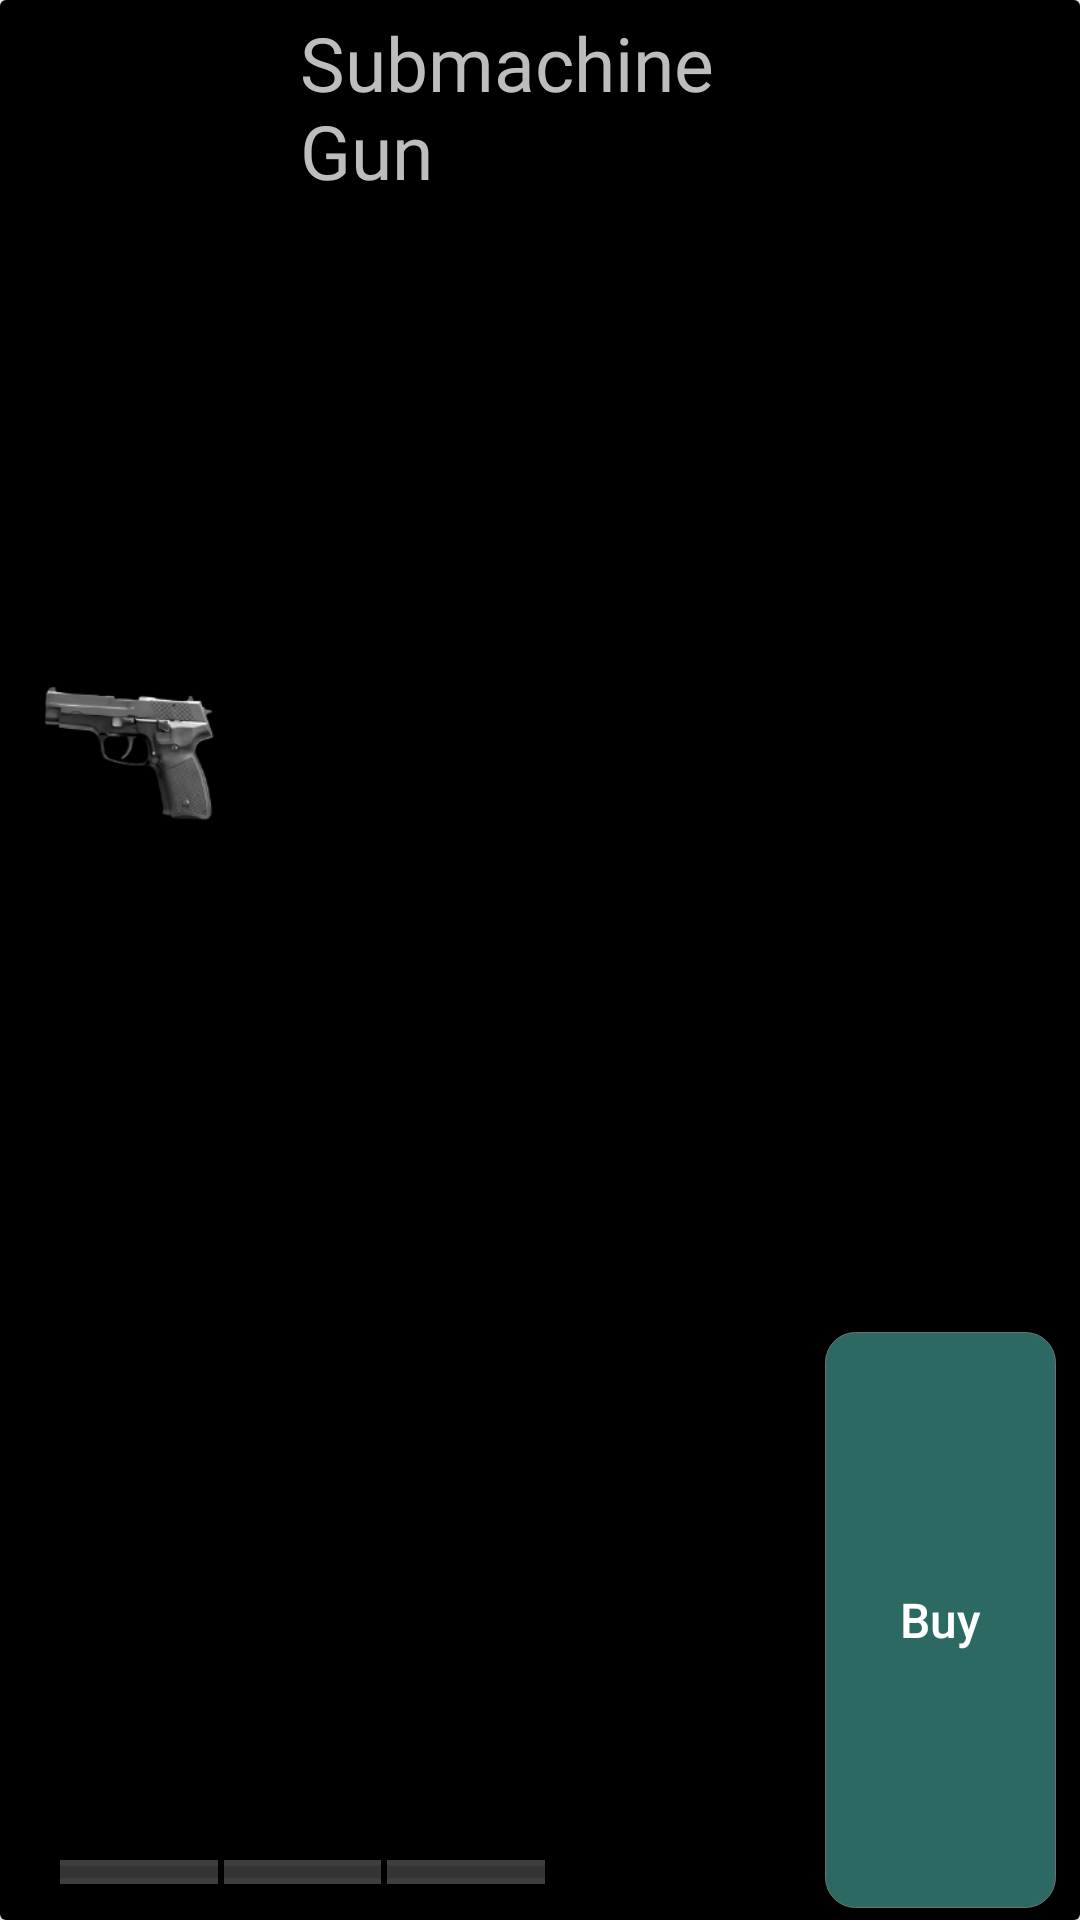

Named icons in this screenshot (1080px x 1920px) and their bounding boxes, box=[x1, y1, x2, y2]:
pistol: box=[45, 687, 214, 820]
